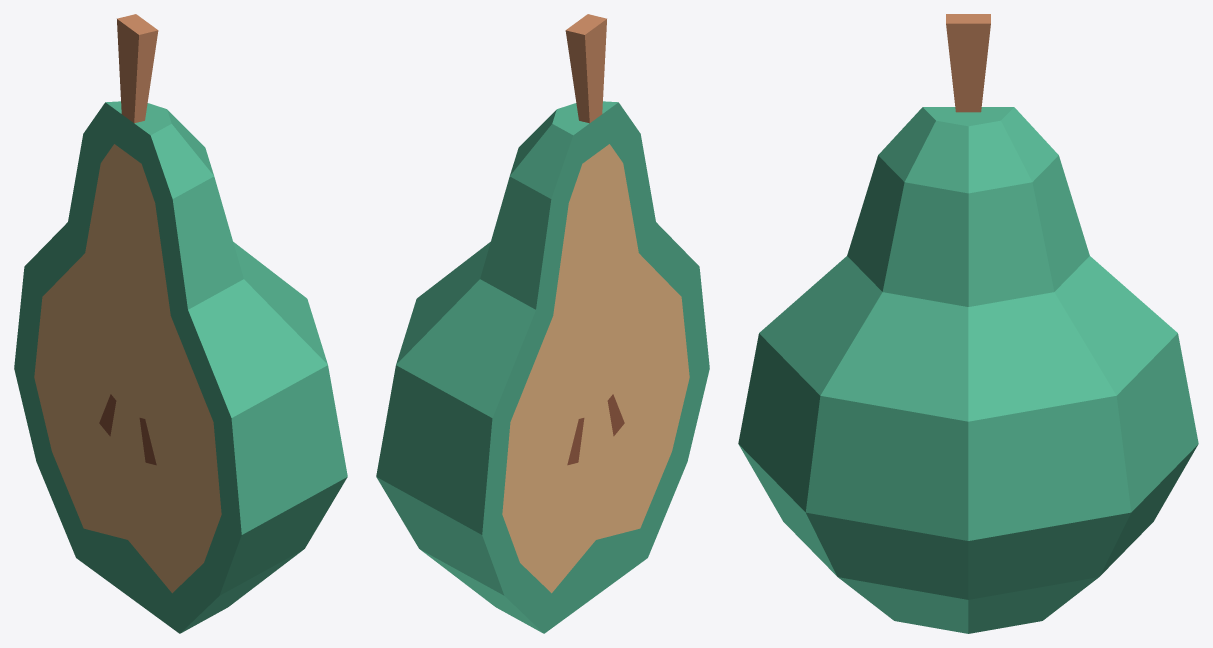
Rendered from pearHalf.obj.
The picture shows the model from 3 angles, left to right: view 1: azimuth 30°, elevation 25°; view 2: azimuth 150°, elevation 25°; view 3: azimuth 270°, elevation 25°; orthographic projection.
Visible parts, largest first — view 1: pearHalf; view 2: pearHalf; view 3: pearHalf.
Boxes of the visible parts, x1,y1,x2,y2 form: pearHalf: [14, 14, 347, 633]; pearHalf: [376, 14, 709, 633]; pearHalf: [738, 14, 1198, 633].
Bounding box in the file's own units: 0.0981 × 0.2708 × 0.1963.
